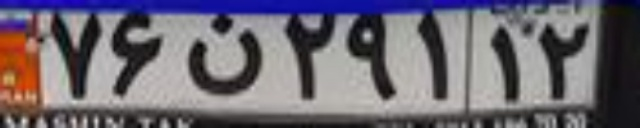1: (410, 11, 448, 99), (487, 24, 520, 101)
2: (280, 12, 335, 99), (539, 21, 587, 99)
6: (106, 10, 163, 97)
7: (49, 10, 103, 99)
9: (344, 11, 396, 99)
non: (181, 11, 267, 96)
